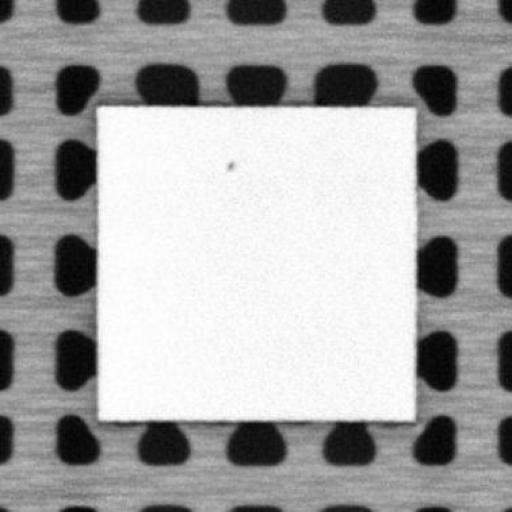DIE_INK: (221, 158, 238, 172)
